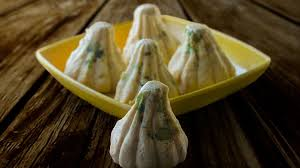modak: (106, 78, 200, 168), (124, 34, 191, 106), (177, 24, 241, 96), (73, 22, 130, 93), (123, 2, 184, 60)
